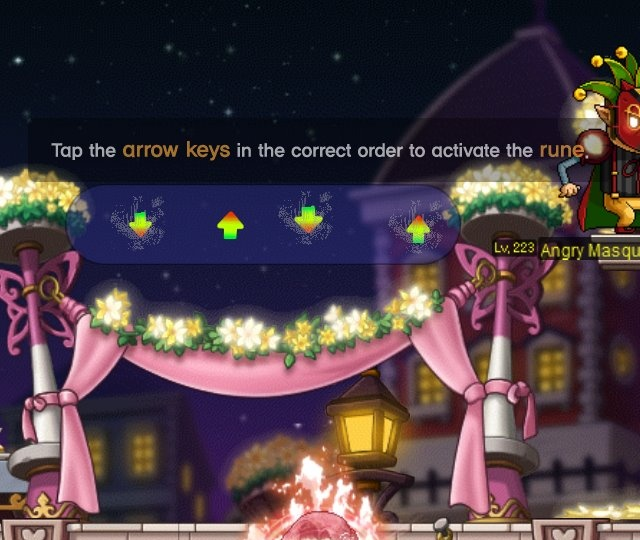rune_box: (57, 175, 473, 273)
